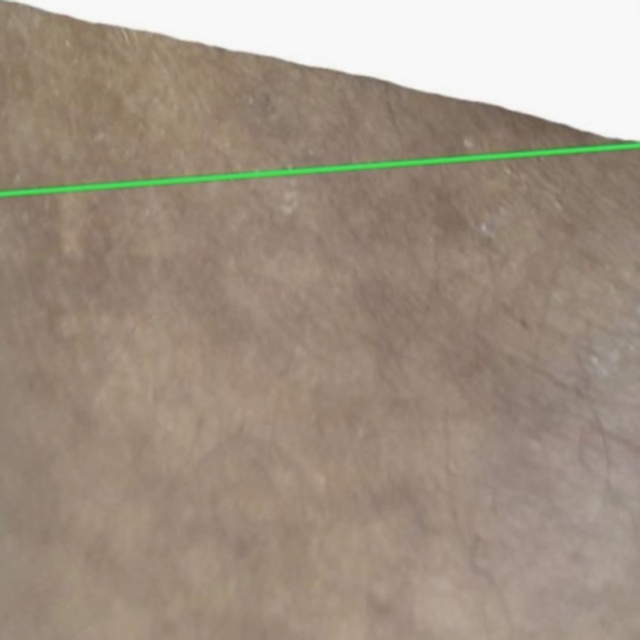Contact Dermatitis: (0, 0, 639, 194)
